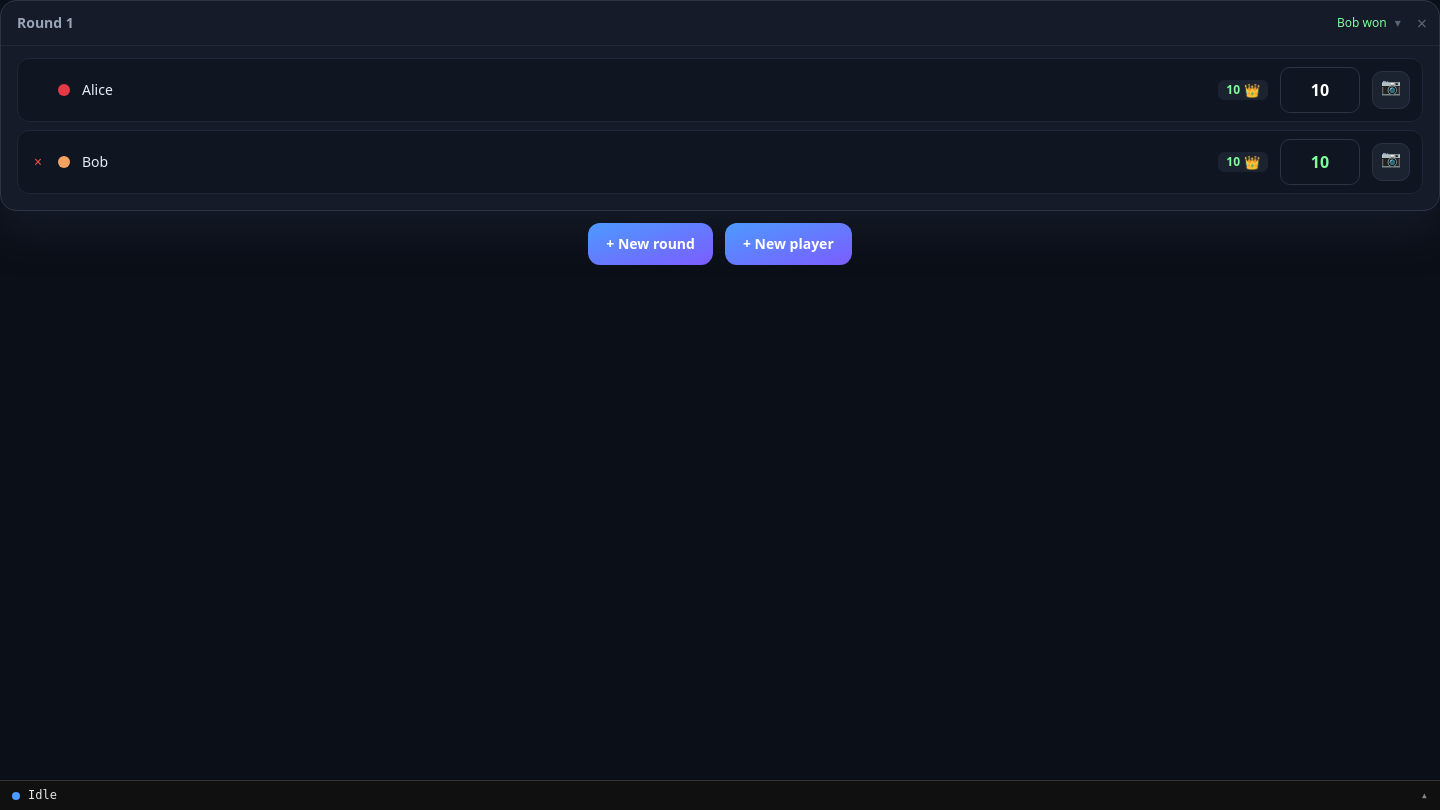
Test case: scans with the in-page camera instead of the native camera app
The image size is (1440, 810).
Click the button named "scan alice's cards for round 1".
click(1391, 90)  # box 1372,71 -> 1410,109
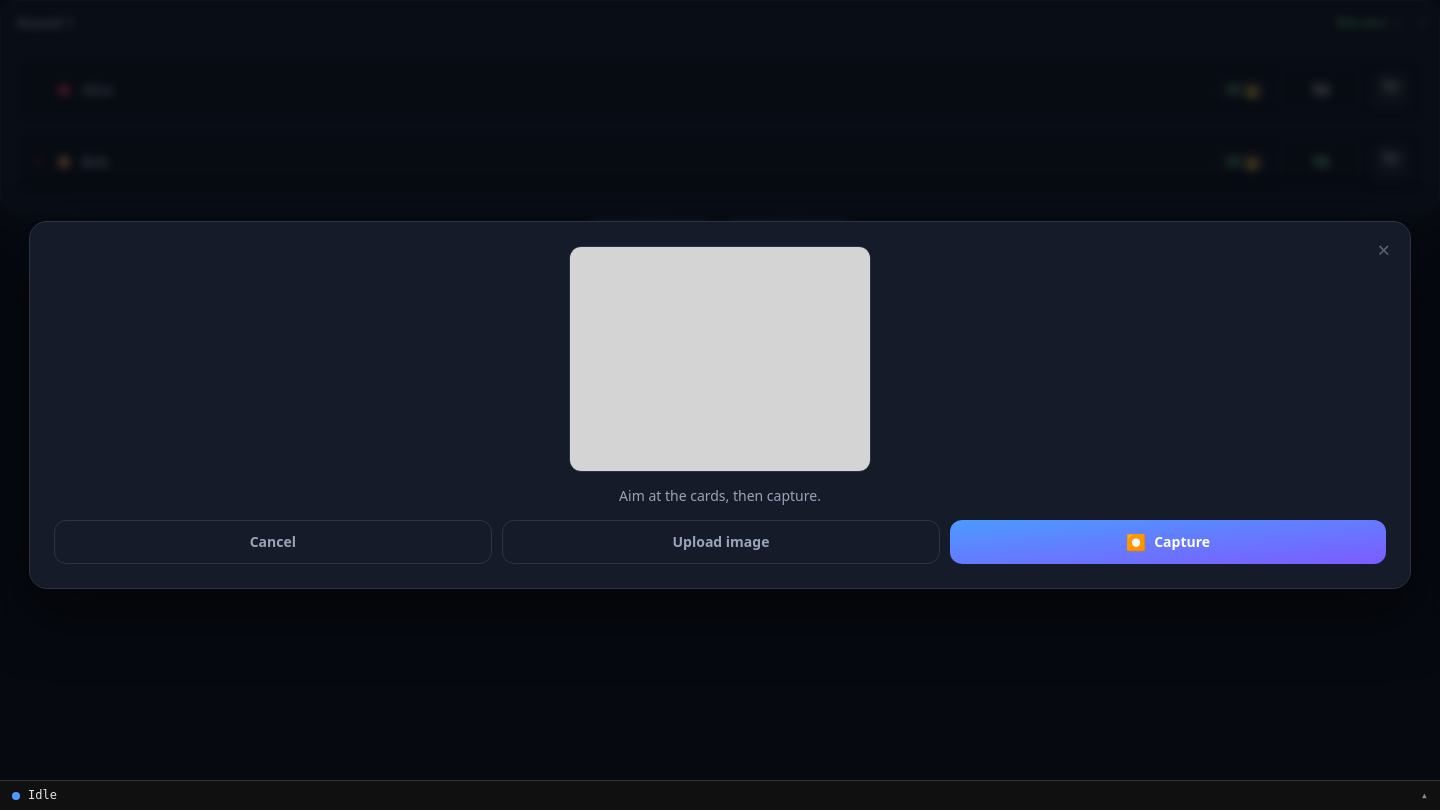
Expected: the dialog is shown, 29,221 -> 1411,589
